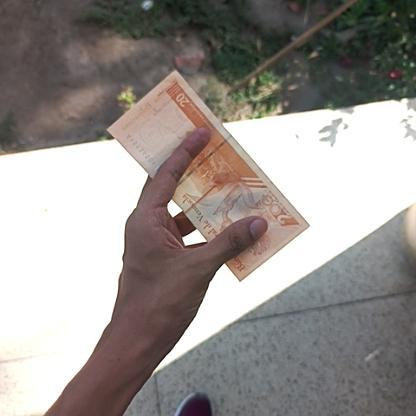twenty-back-vef: (104, 68, 310, 284)
